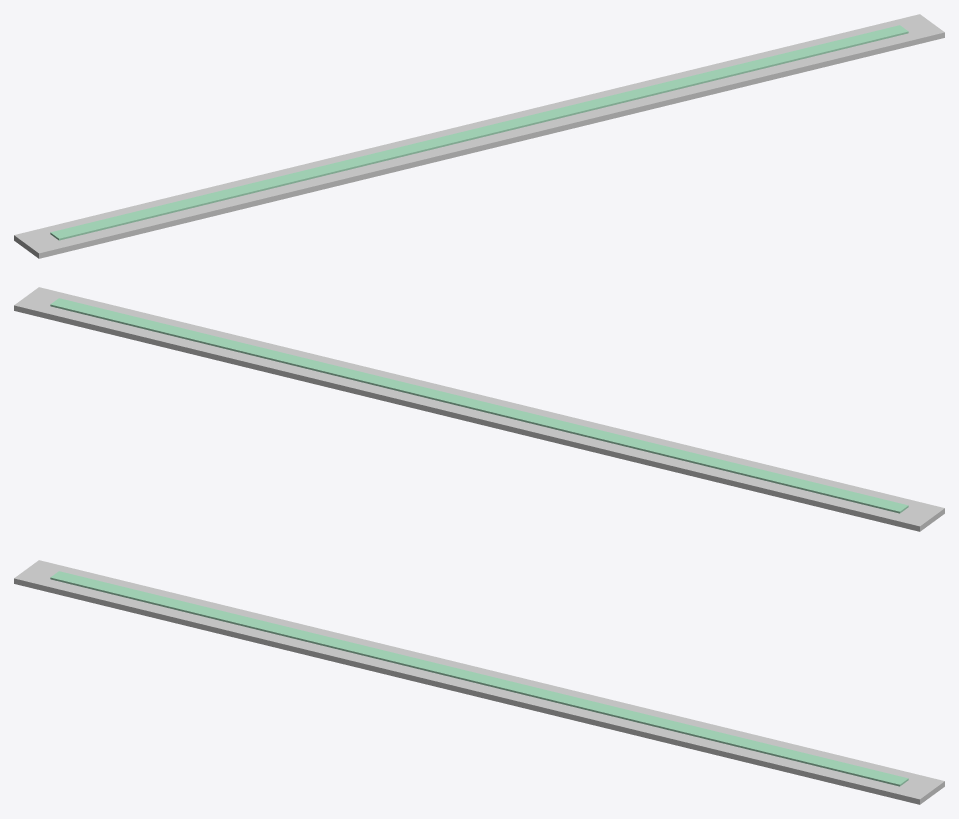
Rendered from InlaySegment.glb.
3 views of the same model, one above another, from view 1: azimuth 30°, elevation 25°; view 2: azimuth 150°, elevation 25°; view 3: azimuth 330°, elevation 25° (orthographic).
Visible parts, largest first — view 1: Body, Glow; view 2: Body, Glow; view 3: Body, Glow.
Boxes of the visible parts, x1=… form: Body: x1=14, y1=14, x2=944, y2=258; Glow: x1=50, y1=25, x2=908, y2=240; Body: x1=14, y1=287, x2=944, y2=531; Glow: x1=50, y1=298, x2=908, y2=513; Body: x1=14, y1=560, x2=944, y2=804; Glow: x1=50, y1=571, x2=908, y2=786.
Size of the model in its own units: 20.9 by 0.16 by 1.
